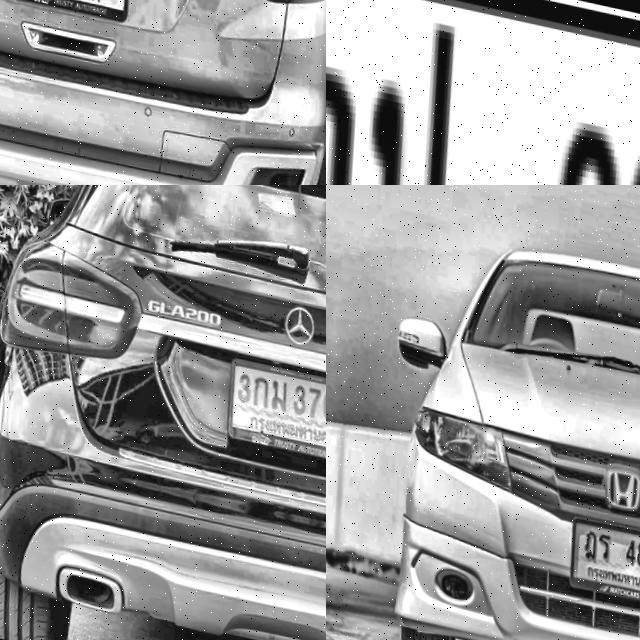license-plate: (326, 0, 640, 185), (213, 350, 326, 463), (552, 506, 640, 607)
